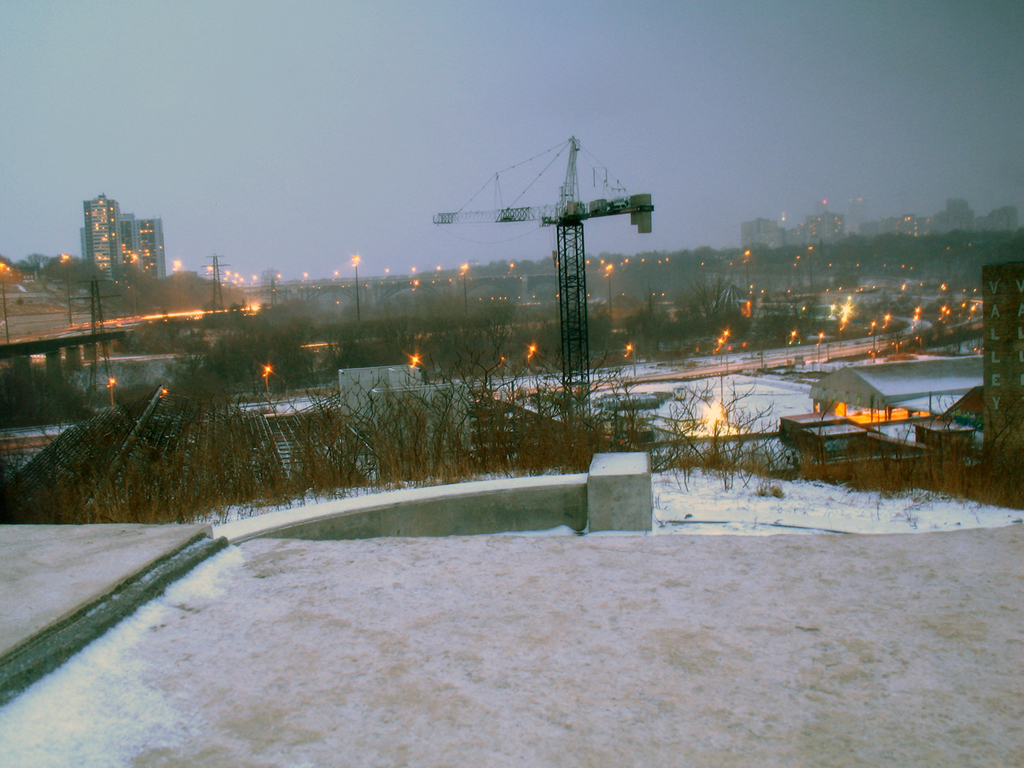Tree: (0, 287, 984, 528), (8, 250, 253, 309), (829, 226, 1022, 278)
